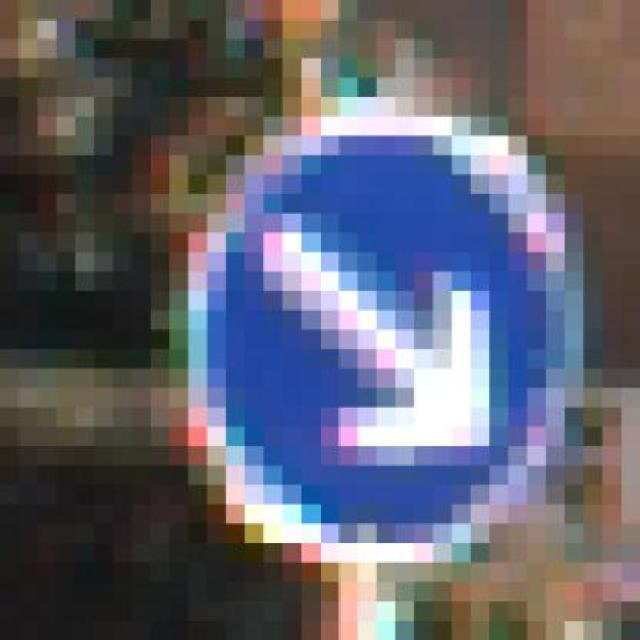Keep-Right: (113, 97, 622, 601)
